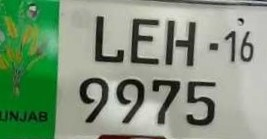1: (224, 29, 238, 63)
5: (185, 79, 217, 127)
6: (240, 29, 256, 63)
7: (150, 78, 181, 126)
9: (76, 75, 111, 125), (115, 77, 147, 125)
E: (128, 16, 161, 66)
H: (164, 18, 197, 67)
L: (91, 14, 124, 64)
